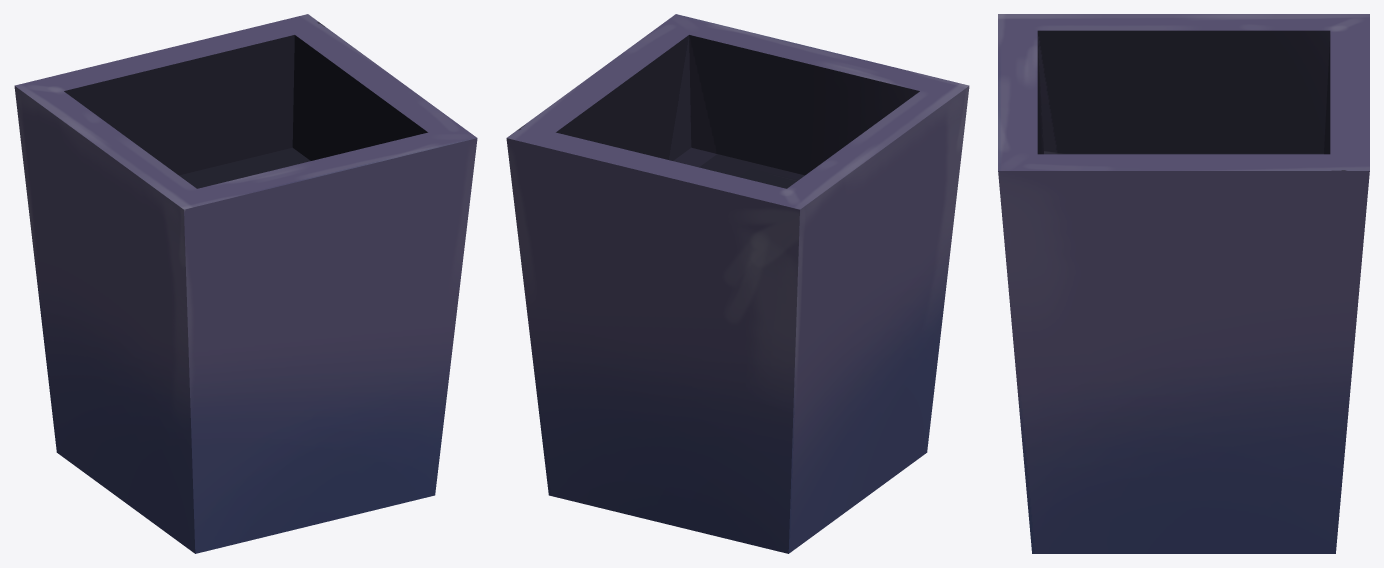
The model's file is Papelera.fbx.
3 views of the same model, side by side, from view 1: azimuth 30°, elevation 25°; view 2: azimuth 150°, elevation 25°; view 3: azimuth 270°, elevation 25° (orthographic). The views are drawn at different scales.
Parts seen in each view (by area): view 1: Cube; view 2: Cube; view 3: Cube.
Part boxes in pixels (<box>): Cube: <box>14,14,477,553</box>; Cube: <box>506,14,969,553</box>; Cube: <box>998,14,1369,553</box>.
Bounding box in the file's own units: 245 × 289 × 245.
1 material, 1 textured.
